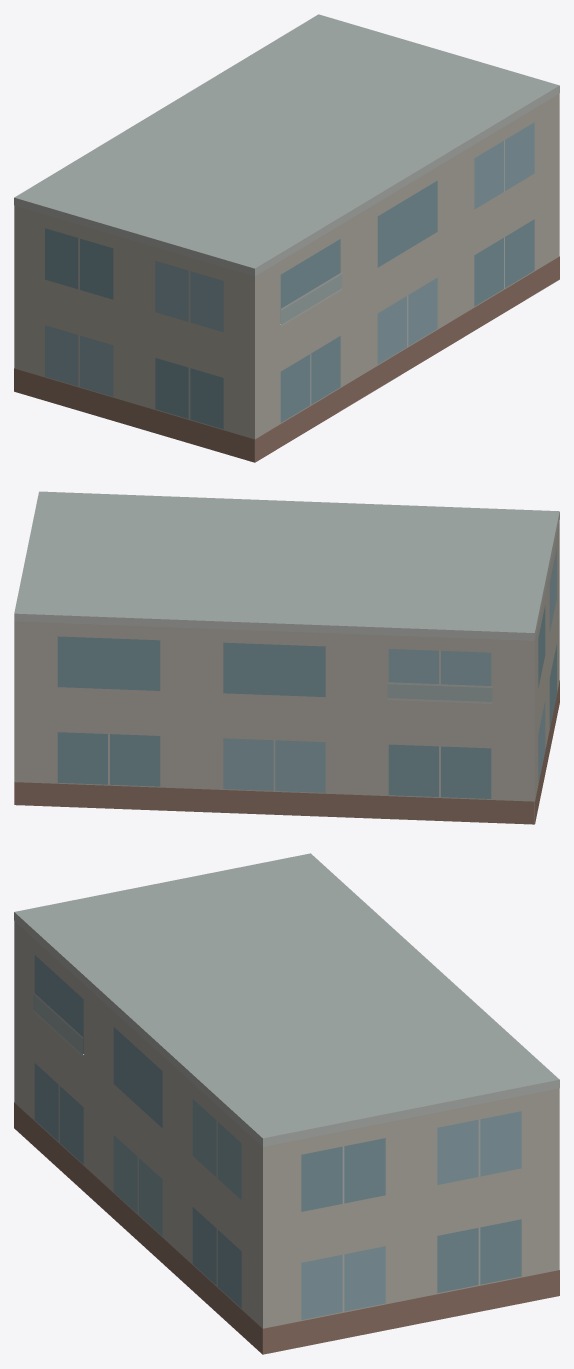
Rendered from survey-upis-32613501.glb.
The picture shows the model from 3 angles, top to bottom: view 1: azimuth 30°, elevation 25°; view 2: azimuth 150°, elevation 25°; view 3: azimuth 270°, elevation 25°; orthographic projection. The views are drawn at different scales.
Parts seen in each view (by area): view 1: survey-upis-32613501.tmp; view 2: survey-upis-32613501.tmp; view 3: survey-upis-32613501.tmp.
Boxes of the visible parts, x1=… form: survey-upis-32613501.tmp: x1=14, y1=14, x2=559, y2=462; survey-upis-32613501.tmp: x1=14, y1=491, x2=559, y2=824; survey-upis-32613501.tmp: x1=14, y1=853, x2=559, y2=1354.
Size of the model in its own units: 17.26 by 6.1 by 13.96.
